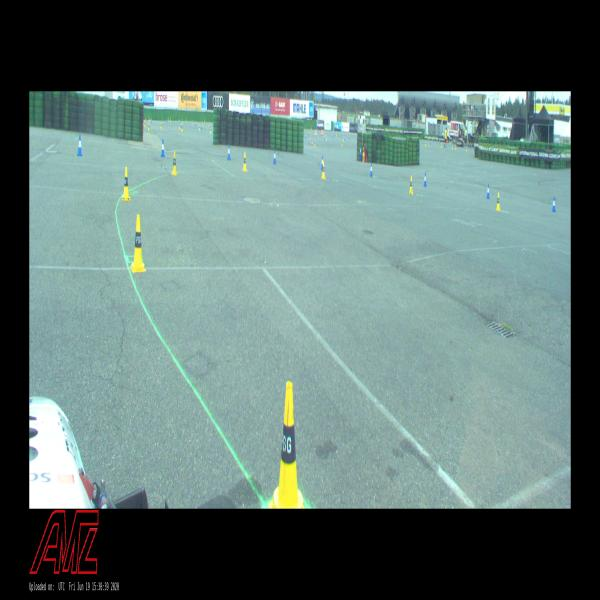blue_cone: (161, 138, 165, 157), (552, 196, 556, 212), (227, 144, 231, 160), (486, 184, 490, 199), (423, 172, 427, 187), (273, 149, 276, 164), (321, 155, 323, 169), (370, 163, 372, 177), (360, 146, 361, 155)
large_orange_cone: (77, 134, 82, 156), (322, 128, 324, 136), (314, 128, 316, 136), (316, 128, 317, 136), (321, 129, 322, 136)
yellow_cone: (268, 382, 305, 508), (130, 214, 146, 272), (121, 166, 131, 201), (172, 151, 177, 175), (243, 152, 247, 171), (496, 192, 500, 210), (409, 176, 413, 194), (322, 162, 326, 178), (363, 147, 364, 155)
